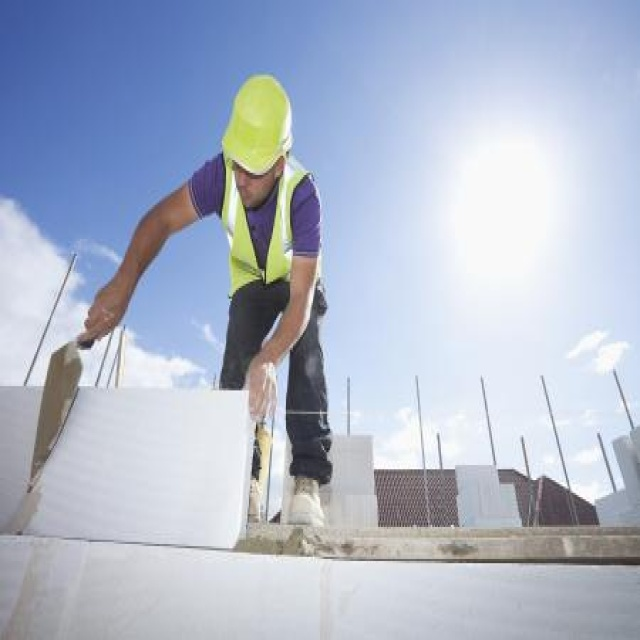Helmet: (213, 62, 305, 212)
Reflective vest: (215, 159, 321, 319)
